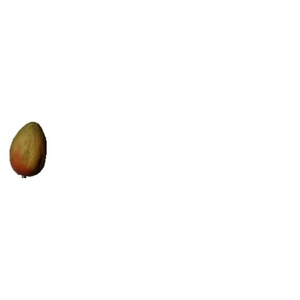mamão: (6, 116, 52, 183)
